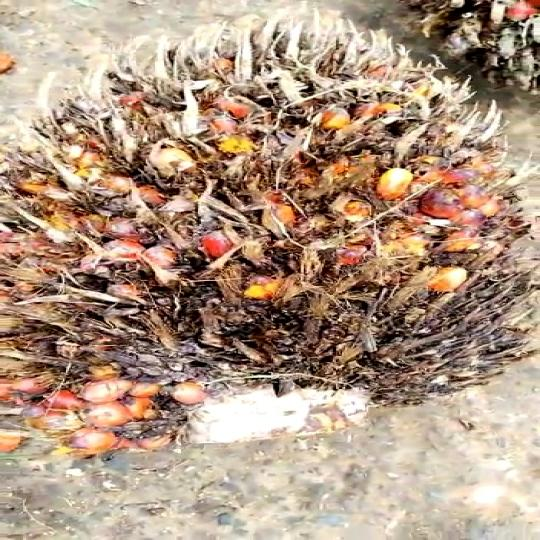terlalu masak: (0, 9, 540, 480)
